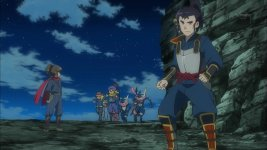greninja: (132, 87, 152, 124), (117, 94, 131, 124)
